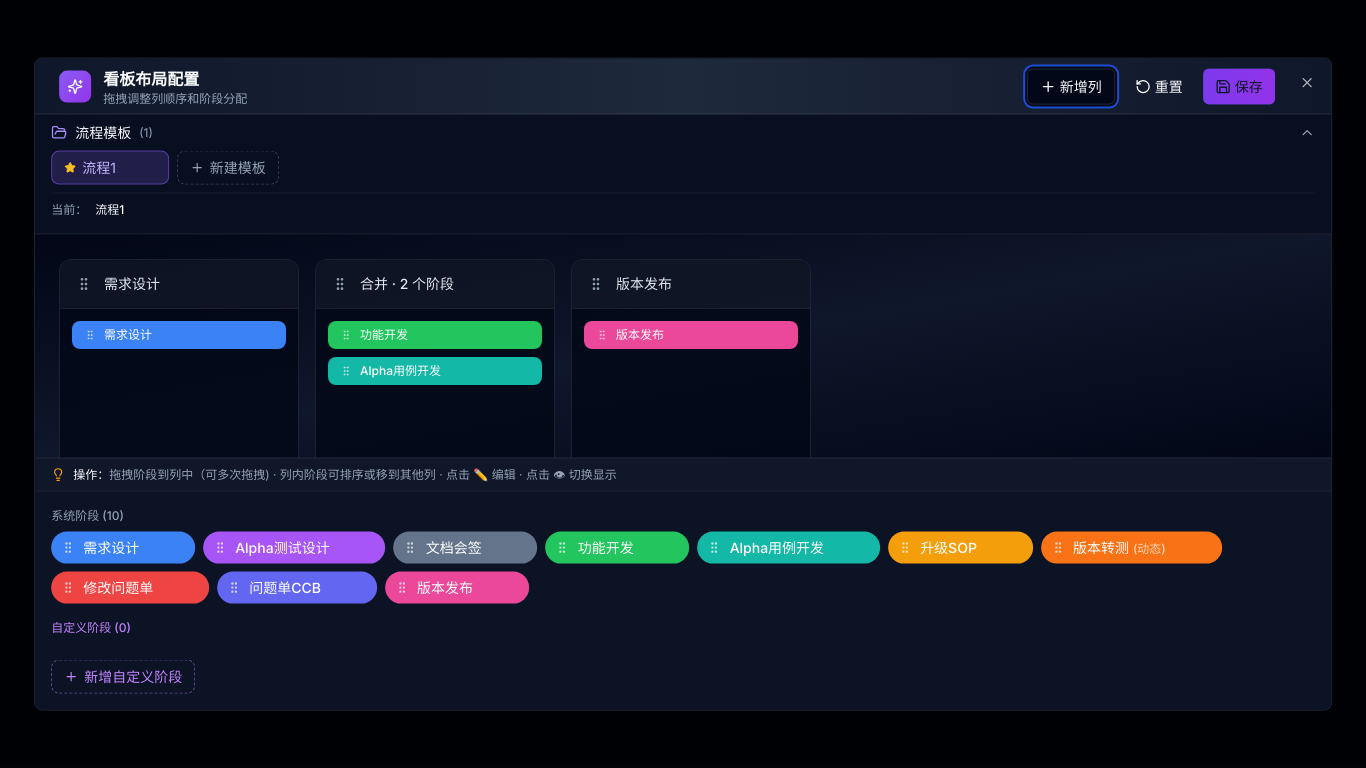
Scenario: KanbanConfigDialog › 模板管理 › 点击新建模板按钮创建新模板
Expected: the text "新建模板" is shown, [210,158,266,178]
Click the button "新建模板" at [228, 168], box [177,151,279,185]
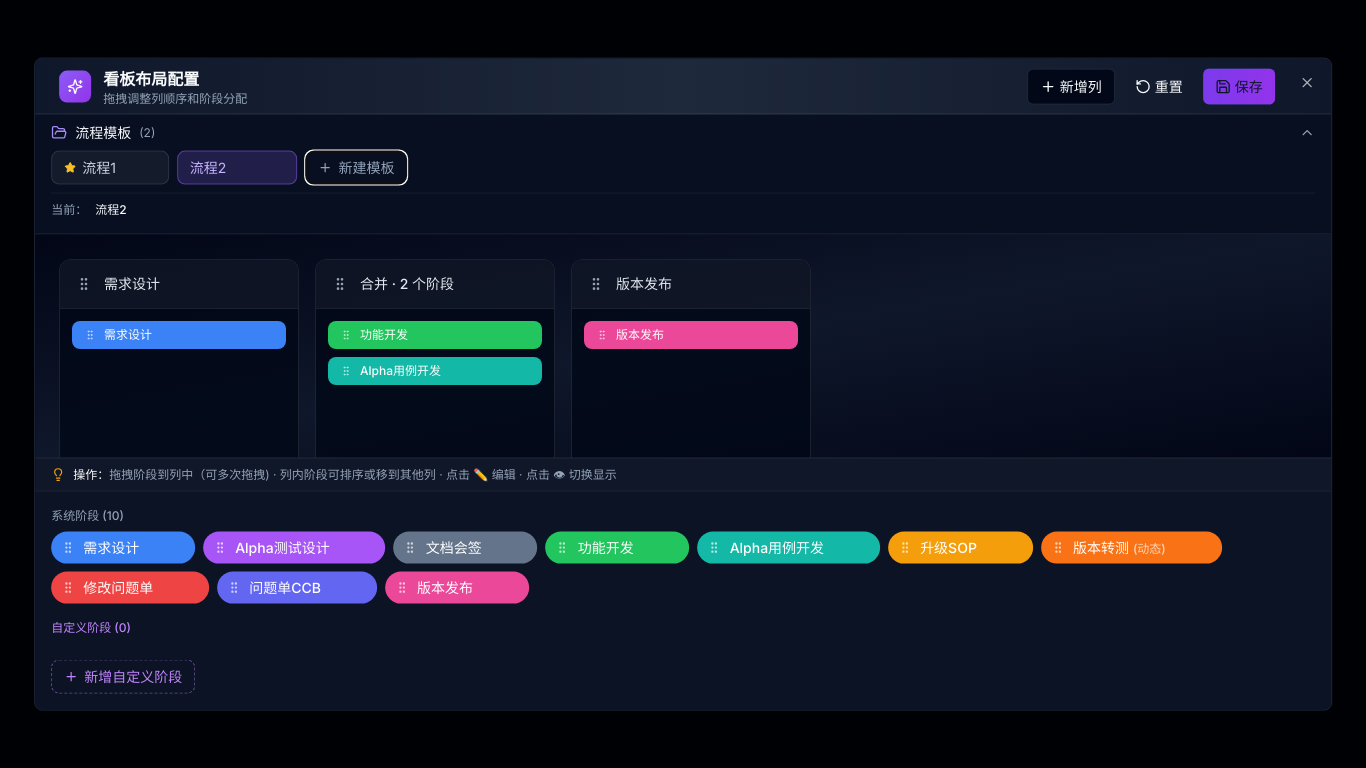
Expected: the button "流程2" is shown, [190,158,226,178]
